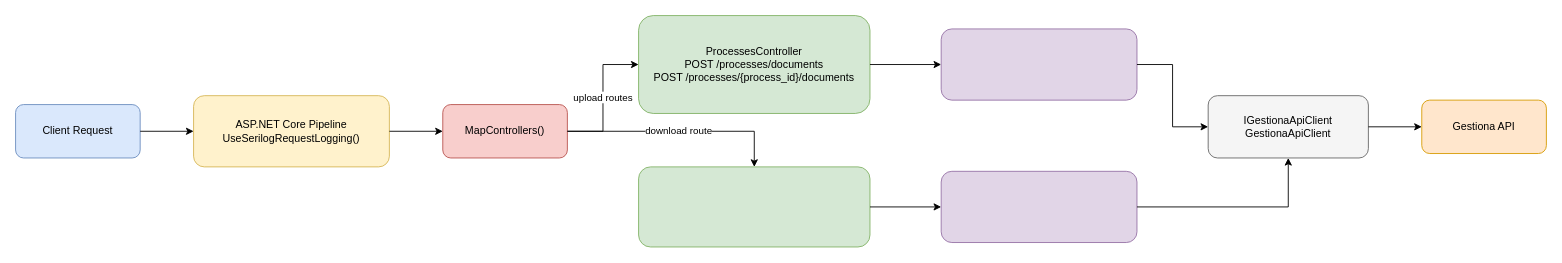
This 1562x263 diagram has some shape labels left out. The shapes that lost their labels are listed below. From the top down, each one's centre as x and y in pixels, then its label:
At (x=1038, y=64): "IGestionaProcessService GestionaProcessService".
At (x=754, y=206): "DocumentsController GET /documents/{document_id}".
At (x=1038, y=206): "IGestionaDocumentService GestionaDocumentService".
